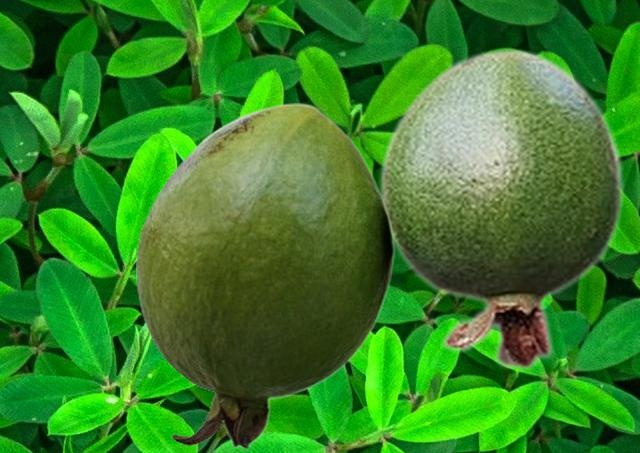guava: (136, 103, 394, 449), (378, 47, 625, 371)
